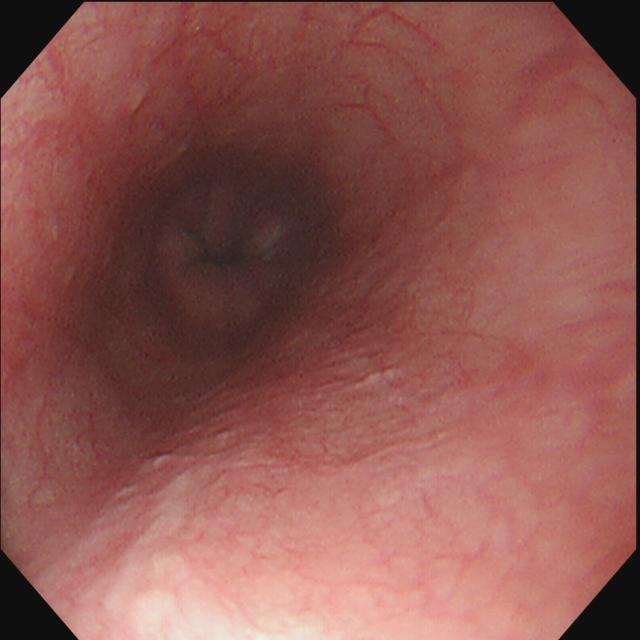I: (147, 165, 311, 348)
